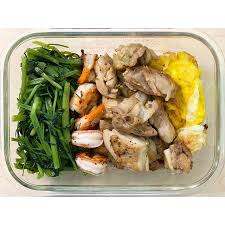kongxincai: (23, 59, 71, 172)
